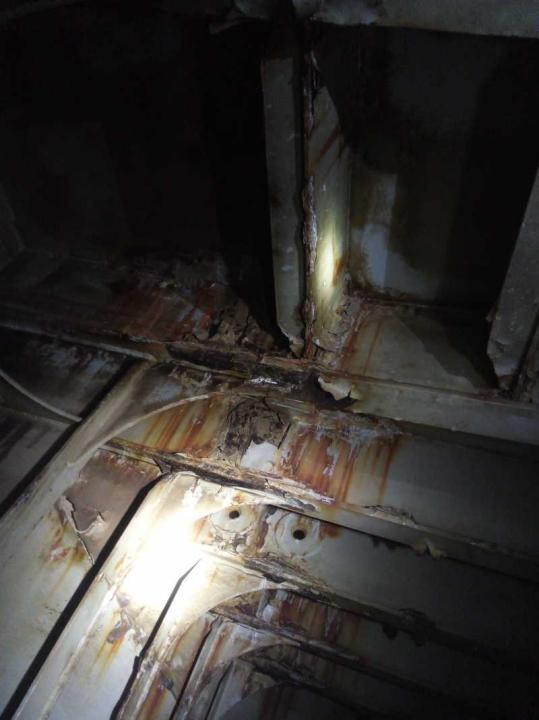corrosion: (98, 272, 266, 354), (279, 406, 414, 508), (132, 366, 240, 460), (261, 587, 355, 650), (326, 283, 391, 372), (27, 500, 95, 585), (76, 443, 159, 511), (211, 392, 276, 460), (193, 613, 236, 700), (84, 619, 138, 680), (152, 613, 180, 717), (202, 549, 263, 591)
